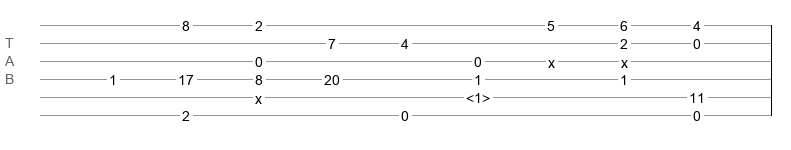0: (255, 54, 263, 64), (401, 108, 409, 118), (474, 54, 482, 64), (693, 36, 701, 46), (693, 108, 701, 118)
1: (109, 72, 117, 82), (474, 72, 482, 82), (620, 72, 628, 82)
11: (689, 90, 705, 100)
17: (178, 72, 194, 82)
2: (182, 108, 190, 118), (255, 18, 263, 28), (620, 36, 628, 46)
20: (324, 72, 340, 82)
4: (401, 36, 409, 46), (693, 18, 701, 28)
5: (547, 18, 555, 28)
6: (620, 18, 628, 28)
7: (328, 36, 336, 46)
8: (182, 18, 190, 28), (255, 72, 263, 82)
harmonic: (466, 90, 490, 100)
x: (255, 91, 262, 99), (548, 55, 555, 63), (621, 55, 628, 63)
